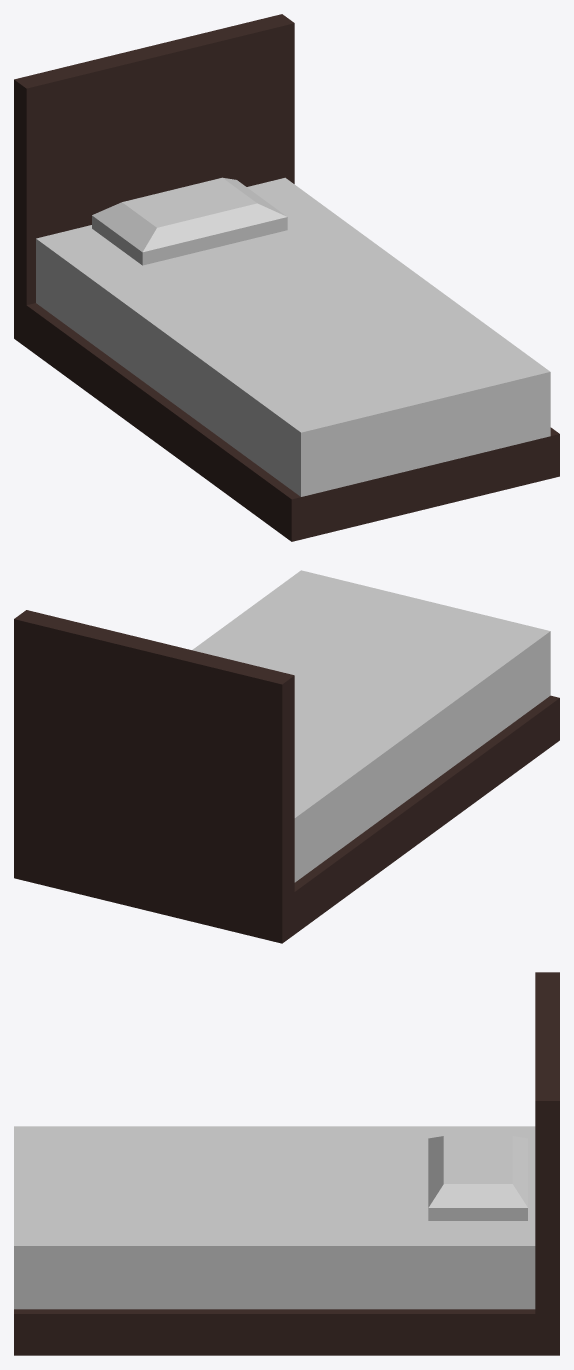
File: Bed6.fbx
3 views of the same model, one above another, from view 1: azimuth 30°, elevation 25°; view 2: azimuth 150°, elevation 25°; view 3: azimuth 270°, elevation 25° (orthographic).
Parts seen in each view (by area): view 1: Cube; view 2: Cube; view 3: Cube.
Boxes of the visible parts, x1,y1,x2,y2 form: Cube: (14,14,559,541); Cube: (14,570,559,943); Cube: (14,972,559,1355).
Bounding box in the file's own units: 1.8 × 1.66 × 3.23.
